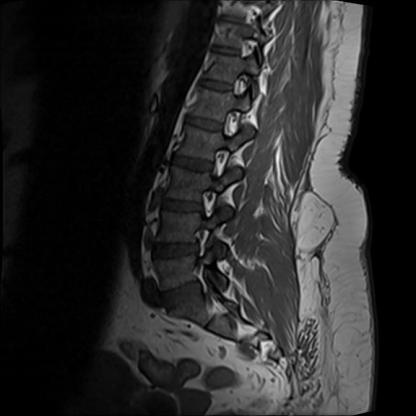Disc Bulgerotation: (159, 280, 210, 309)
